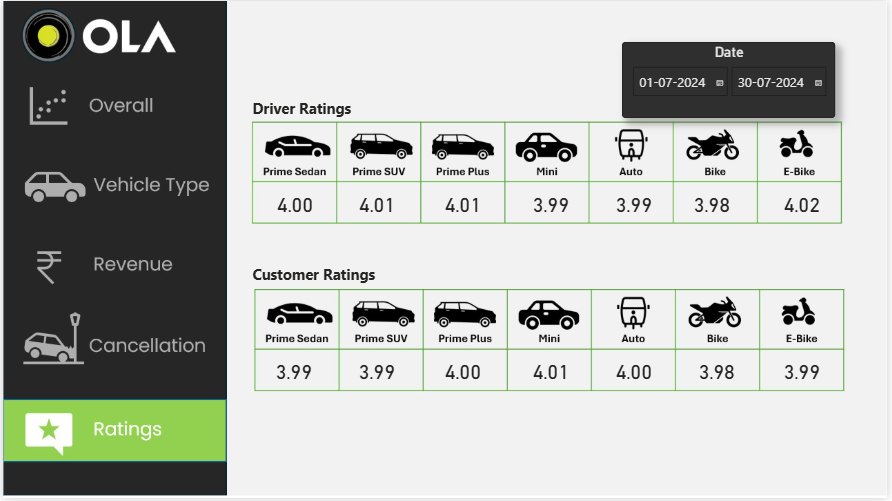

The page's visual inventory and layout, read from the dashboard file:
{"tool":"powerbi","page":{"name":"Ratings","canvas":[1280,720],"ordinal":4},"visuals":[{"type":"actionButton","box":[0,110.1,323.4,89.5],"z":0},{"type":"actionButton","box":[0,221.6,323.4,95],"z":1000},{"type":"actionButton","box":[0,327.6,323.4,97.7],"z":2000},{"type":"actionButton","box":[0,445.9,323.4,107.4],"z":3000},{"type":"card","fields":{"Values":["Avg(OLA.Driver_Ratings)"]},"box":[373.2,268.9,98.4,48.5],"z":4000},{"type":"card","fields":{"Values":["Avg(OLA.Driver_Ratings)"]},"box":[492.2,268.9,98.4,48.5],"z":5000},{"type":"card","fields":{"Values":["Avg(OLA.Driver_Ratings)"]},"box":[617.7,269.6,98.2,48.2],"z":6000},{"type":"card","fields":{"Values":["Avg(OLA.Driver_Ratings)"]},"box":[744.4,269.6,98.2,48.2],"z":7000},{"type":"card","fields":{"Values":["Avg(OLA.Driver_Ratings)"]},"box":[865.8,269.6,98.2,48.2],"z":8000},{"type":"card","fields":{"Values":["Avg(OLA.Driver_Ratings)"]},"box":[978.3,269.6,98.2,48.2],"z":9000},{"type":"card","fields":{"Values":["Avg(OLA.Driver_Ratings)"]},"box":[1108.6,269.6,98.2,48.2],"z":10000},{"type":"card","fields":{"Values":["Avg(OLA.Customer_Rating)"]},"box":[373.1,505.2,98.2,60.7],"z":11000},{"type":"card","fields":{"Values":["Avg(OLA.Customer_Rating)"]},"box":[492.7,505.2,98.2,60.7],"z":12000},{"type":"card","fields":{"Values":["Avg(OLA.Customer_Rating)"]},"box":[744.4,505.2,98.2,60.7],"z":13000},{"type":"card","fields":{"Values":["Avg(OLA.Customer_Rating)"]},"box":[617.7,505.2,98.2,60.7],"z":14000},{"type":"card","fields":{"Values":["Avg(OLA.Customer_Rating)"]},"box":[865.8,505.2,98.2,60.7],"z":15000},{"type":"card","fields":{"Values":["Avg(OLA.Customer_Rating)"]},"box":[978.3,505.2,112.5,60.7],"z":16000},{"type":"card","fields":{"Values":["Avg(OLA.Customer_Rating)"]},"box":[1108.6,505.2,98.2,60.7],"z":17000},{"type":"textbox","box":[357.1,136.7,233.6,63.2],"z":18000},{"type":"textbox","box":[357.1,376.2,233.6,50],"z":19000},{"type":"slicer","title":"Date","fields":{"Values":["OLA.Date"]},"box":[897.1,59.4,308.7,110.1],"z":20000}]}

Visuals, with their boxes on the page's 1280x720 design canvas (x1, y1, x2, y2). These are canvas units, not pixel positions in the 892x501 screenshot, which may show the page scaled, cropped or inside an application window:
actionButton: (0, 110, 323, 200)
actionButton: (0, 222, 323, 317)
actionButton: (0, 328, 323, 425)
actionButton: (0, 446, 323, 553)
card - Avg(OLA.Driver_Ratings): (373, 269, 472, 317)
card - Avg(OLA.Driver_Ratings): (492, 269, 591, 317)
card - Avg(OLA.Driver_Ratings): (618, 270, 716, 318)
card - Avg(OLA.Driver_Ratings): (744, 270, 843, 318)
card - Avg(OLA.Driver_Ratings): (866, 270, 964, 318)
card - Avg(OLA.Driver_Ratings): (978, 270, 1076, 318)
card - Avg(OLA.Driver_Ratings): (1109, 270, 1207, 318)
card - Avg(OLA.Customer_Rating): (373, 505, 471, 566)
card - Avg(OLA.Customer_Rating): (493, 505, 591, 566)
card - Avg(OLA.Customer_Rating): (744, 505, 843, 566)
card - Avg(OLA.Customer_Rating): (618, 505, 716, 566)
card - Avg(OLA.Customer_Rating): (866, 505, 964, 566)
card - Avg(OLA.Customer_Rating): (978, 505, 1091, 566)
card - Avg(OLA.Customer_Rating): (1109, 505, 1207, 566)
textbox: (357, 137, 591, 200)
textbox: (357, 376, 591, 426)
"Date" slicer: (897, 59, 1206, 170)
